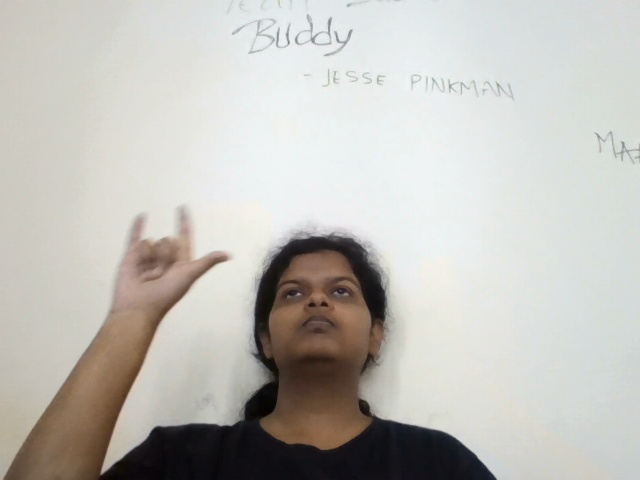i love you: (86, 195, 236, 322)
